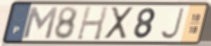8: (52, 6, 78, 41), (133, 7, 157, 40)
H: (75, 5, 110, 42)
J: (159, 6, 186, 40)
M: (22, 5, 60, 41)
X: (103, 6, 135, 41)
